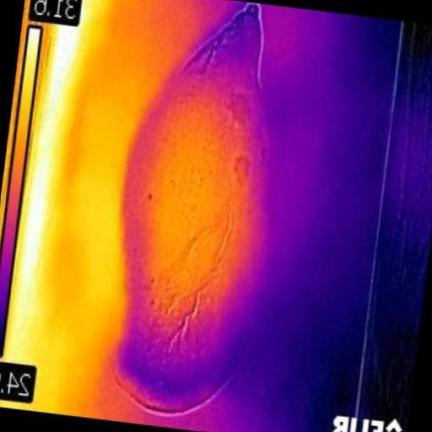mango: (117, 3, 269, 410)
